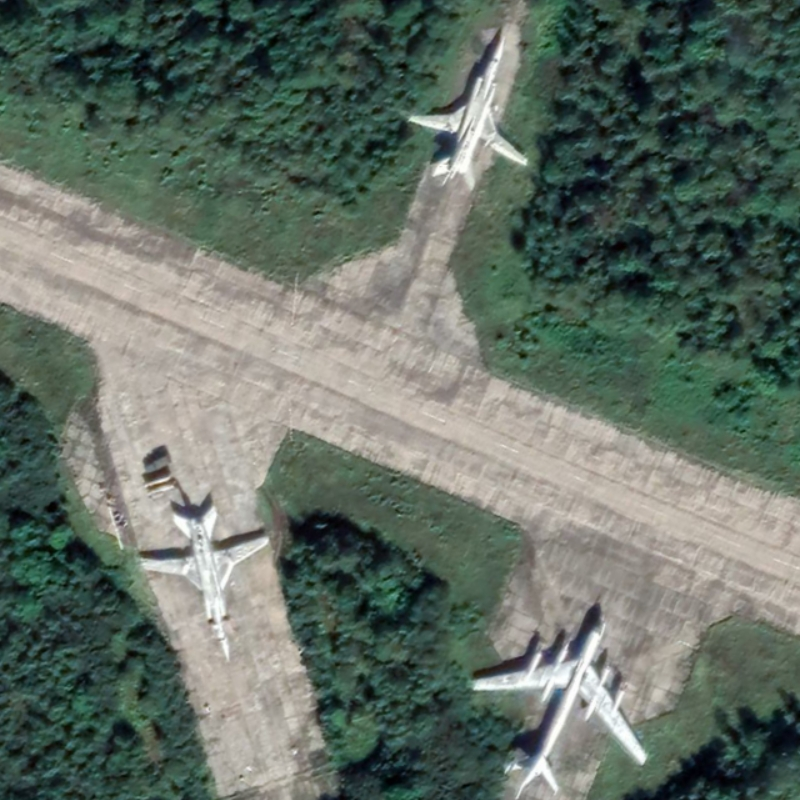A12: (137, 503, 272, 664), (405, 32, 531, 192)
A17: (468, 616, 654, 800)
